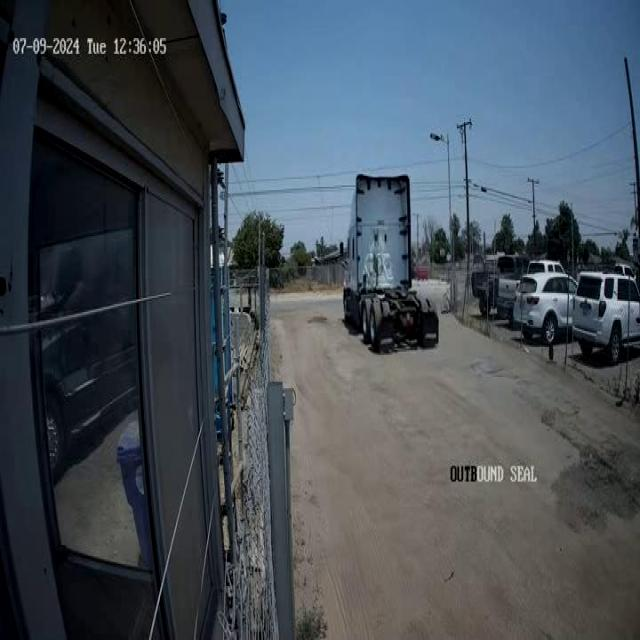BOBTAIL: (339, 172, 440, 352)
